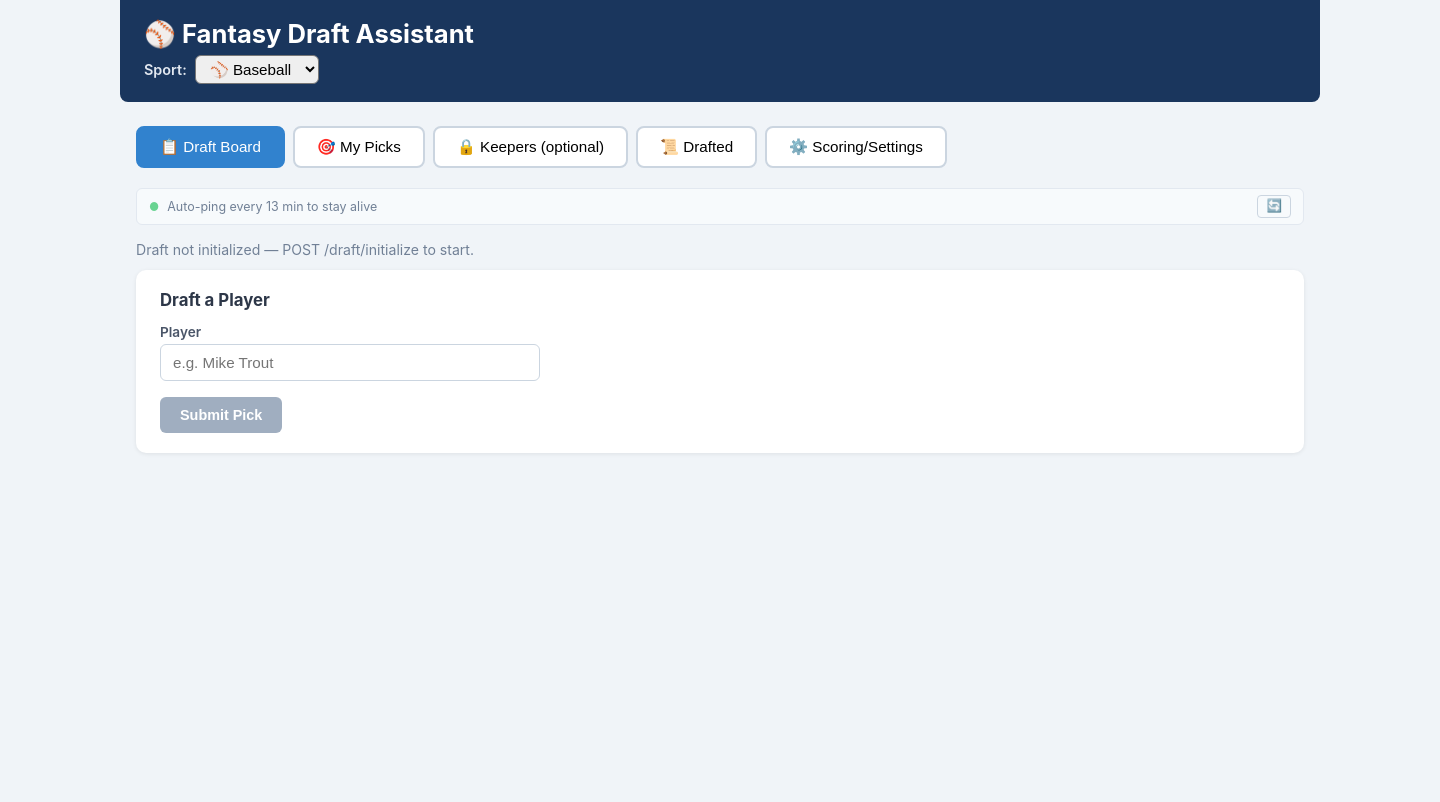
Projection rendering › My Picks tables render batter and pitcher projected stats correctly
Click the tab "🎯 My Picks" at (359, 147), box [293,126,425,168]
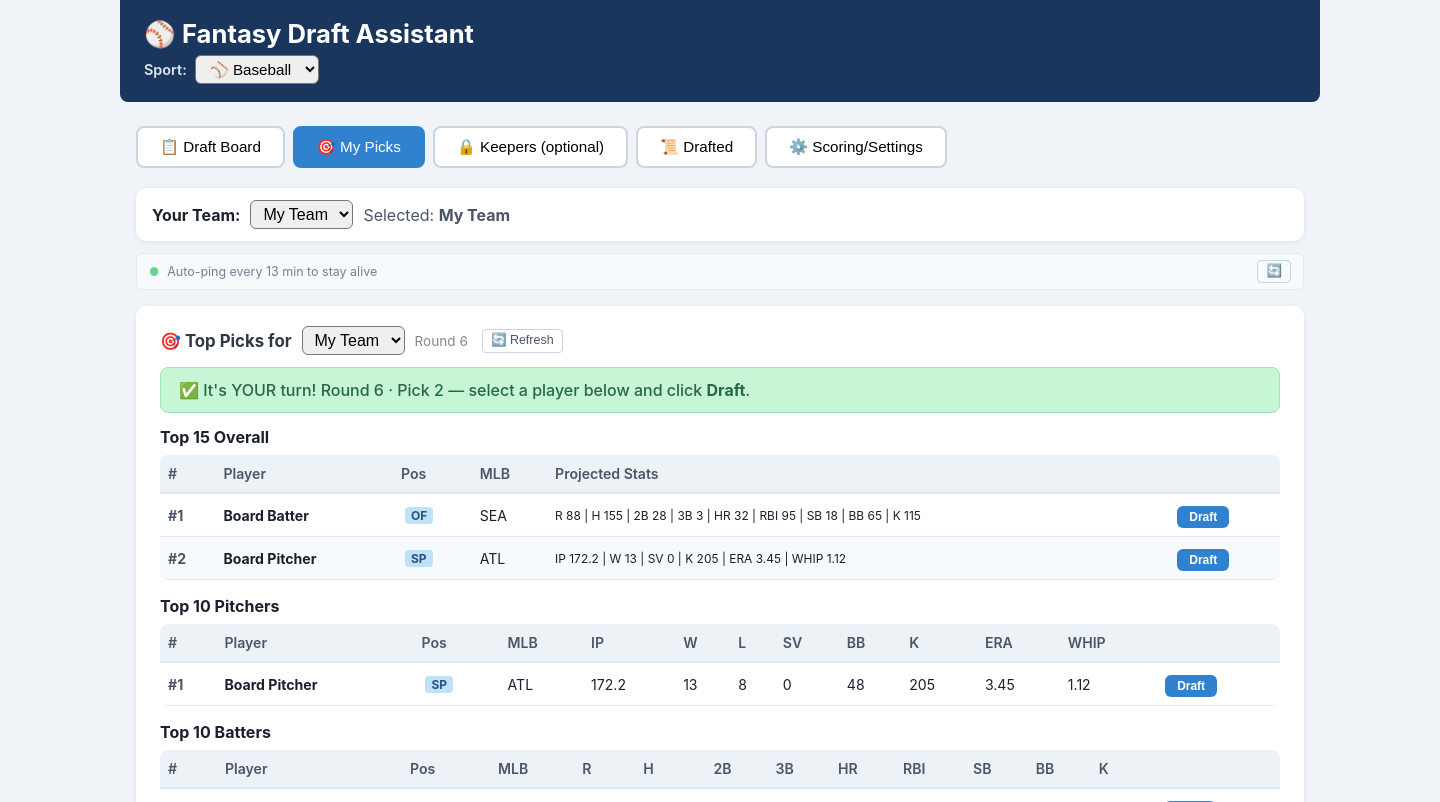
Result: the text "Board Batter" below "Projected Stats" is shown at [223,507,309,524]
Result: the text "Board Pitcher" below "Projected Stats" is shown at [223,550,316,567]
Result: the text "172.2" is shown at [583,662,675,706]
